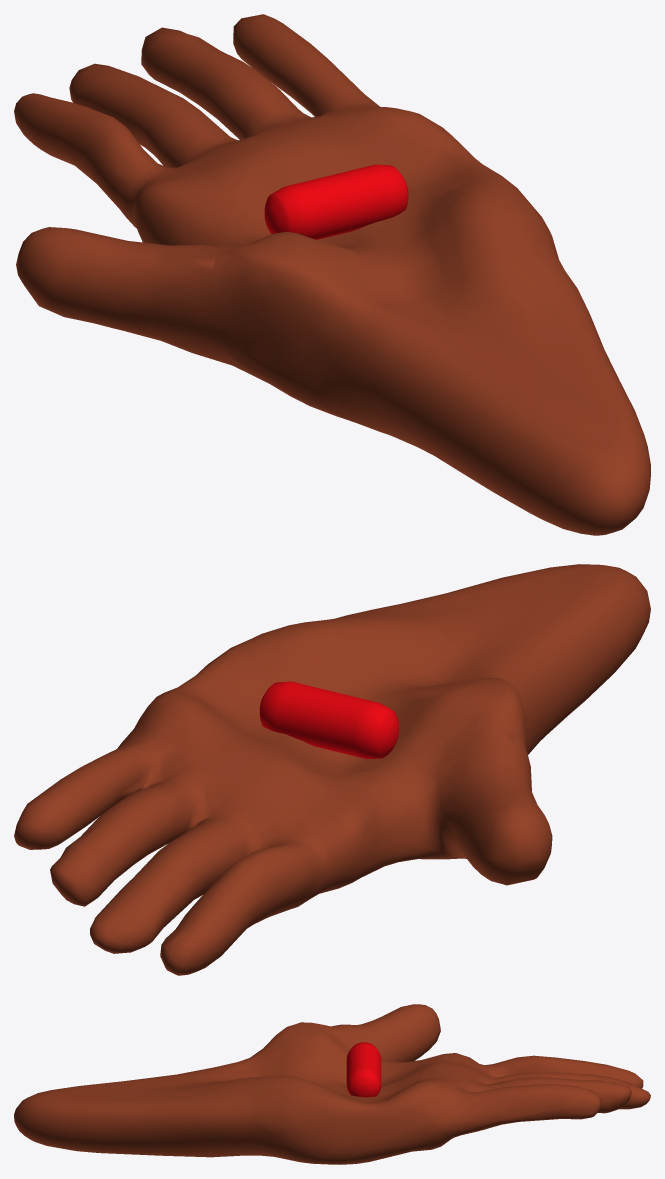
3 views of the same model, one above another, from view 1: azimuth 30°, elevation 25°; view 2: azimuth 150°, elevation 25°; view 3: azimuth 270°, elevation 25° (orthographic). The views are drawn at different scales.
Visible parts, largest first — view 1: Hand, Cylinder; view 2: Hand, Cylinder; view 3: Hand, Cylinder.
Part boxes in pixels (x1,y1,x2,y2): Hand: (14,14,650,535); Cylinder: (264,164,408,239); Hand: (14,564,650,975); Cylinder: (259,681,399,758); Hand: (14,1004,650,1164); Cylinder: (346,1042,381,1097).
Bounding box in the file's own units: 0.1048 × 0.0396 × 0.2293.
